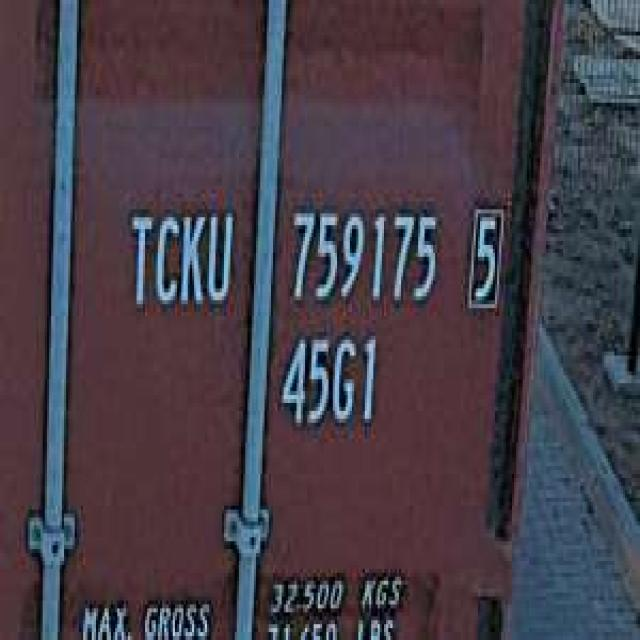dv: (461, 190, 508, 320)
owner: (120, 194, 234, 324)
serial: (284, 194, 442, 320)
size: (275, 324, 382, 442)
